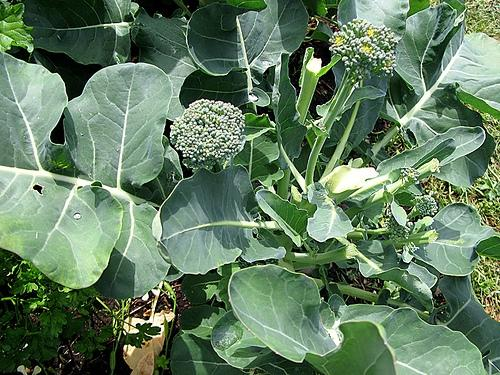broccoli: (306, 18, 398, 194), (169, 98, 246, 172), (383, 212, 413, 244), (407, 195, 438, 220)
